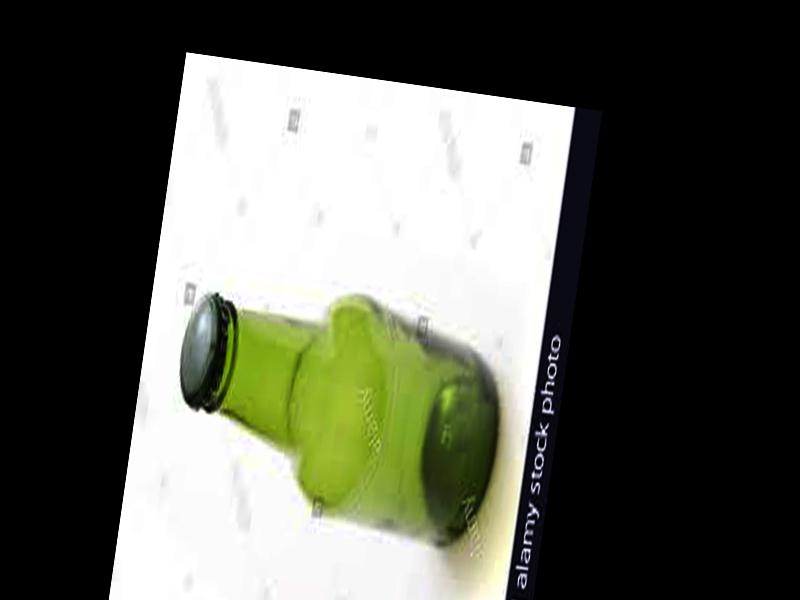Beer: (159, 288, 511, 550)
